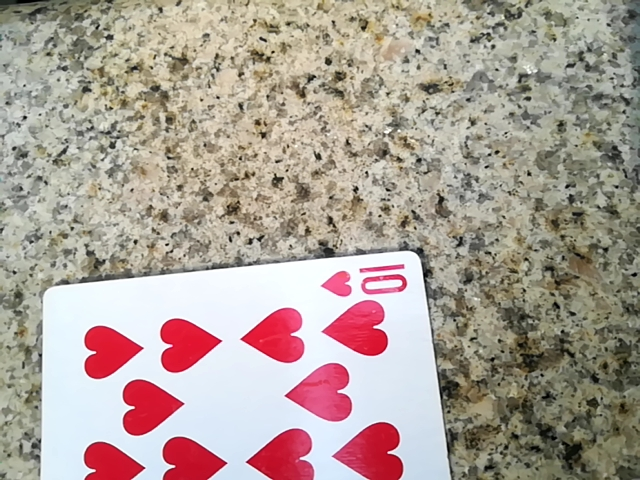hx 10: (23, 246, 449, 480)
